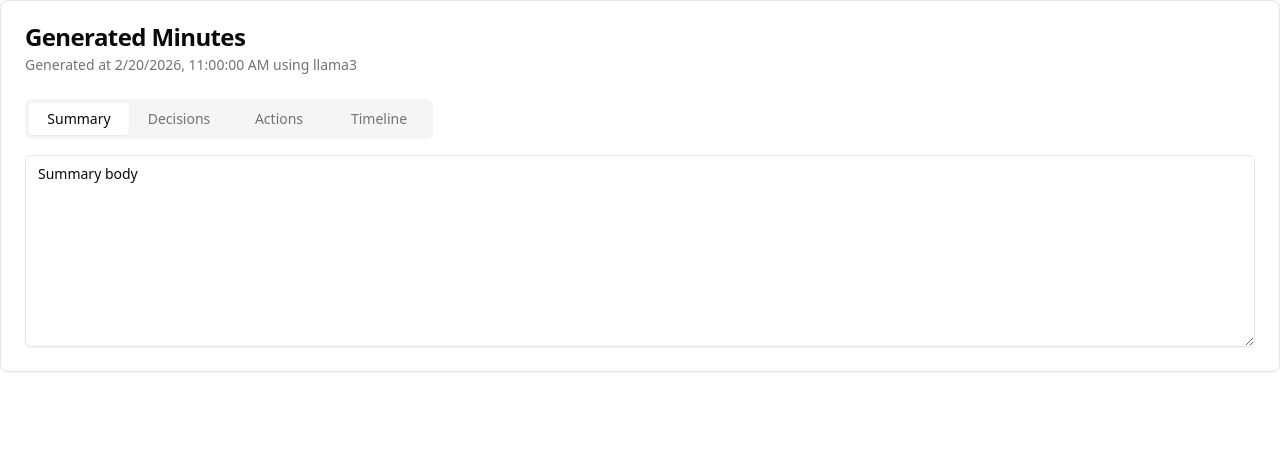
GeneratedMinutesDisplay › renders summary/decision/action sections and timeline markers
Expected: the heading "Generated Minutes" is shown, [25,20,245,53]
Expected: the text box showing "Summary body" is shown, [25,155,1255,347]
Click the tab "Decisions". click: click(179, 119)
box: [129,103,229,135]
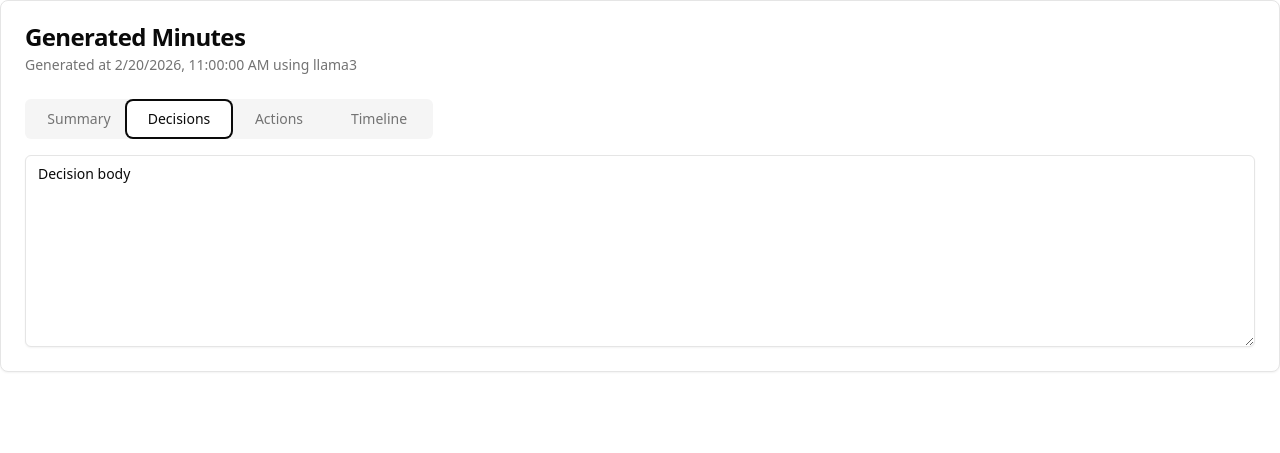
Expected: the text box showing "Decision body" is shown, [25,155,1255,347]
Click the tab "Actions". click: click(279, 119)
box: [229,103,329,135]
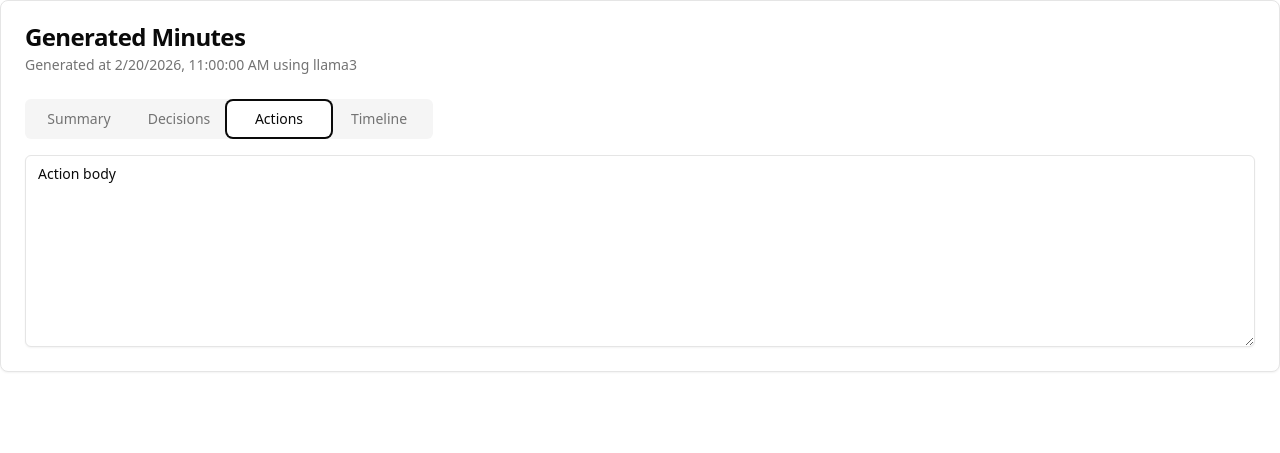
Expected: the text box showing "Action body" is shown, [25,155,1255,347]
Click the tab "Timeline". click: click(379, 119)
box: [329,103,429,135]
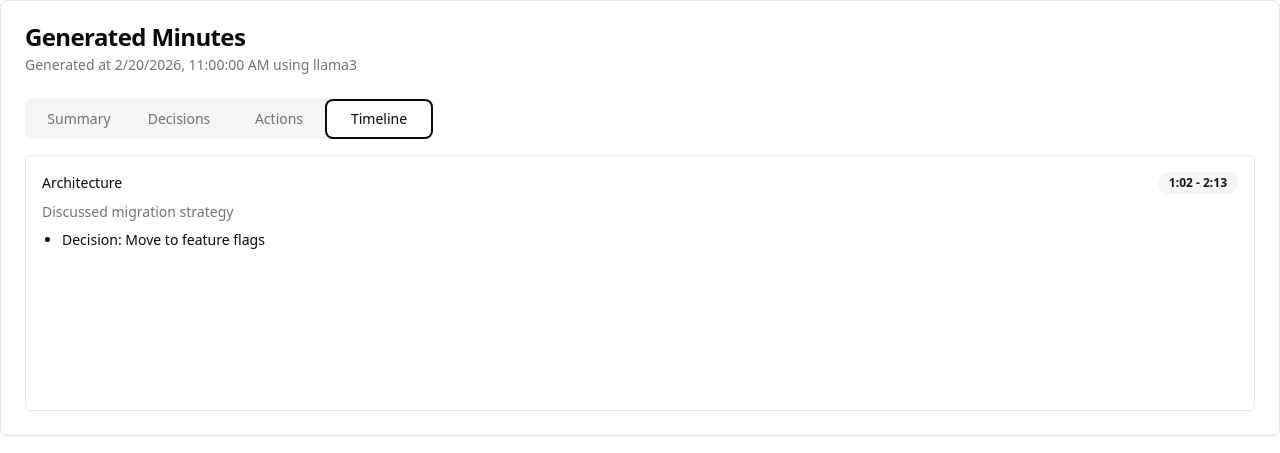
Expected: the text "Architecture" is shown, [42,173,122,193]
Expected: the text "Discussed migration strategy" is shown, [42,202,233,221]
Expected: the list item "Decision: Move to feature flags" is shown, [62,230,265,249]
